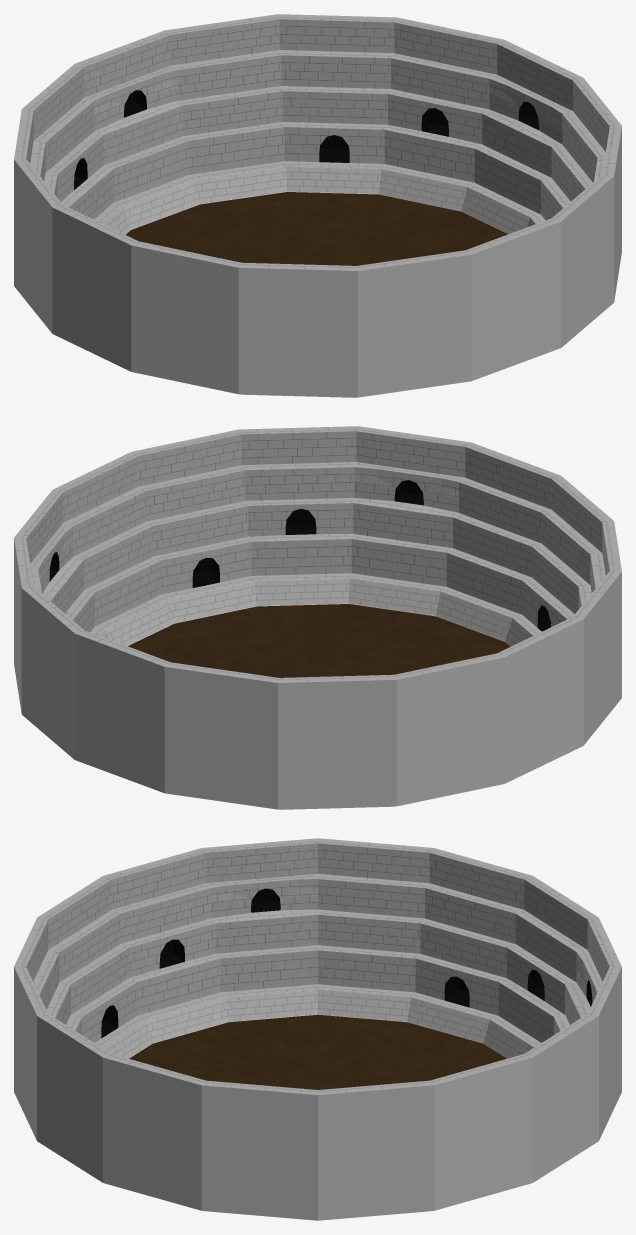
The model's file is colosseum.fbx.
3 views of the same model, one above another, from view 1: azimuth 30°, elevation 25°; view 2: azimuth 150°, elevation 25°; view 3: azimuth 270°, elevation 25° (orthographic).
Visible parts, largest first — view 1: Torus.001; view 2: Torus.001; view 3: Torus.001.
Part boxes in pixels (box(x1,y1,x2,y2)): Torus.001: box(14, 14, 621, 397); Torus.001: box(14, 426, 621, 809); Torus.001: box(14, 838, 621, 1220).
Size of the model in its own units: 31850 by 8485 by 31850.
Materials: 1 (1 with a texture image).
